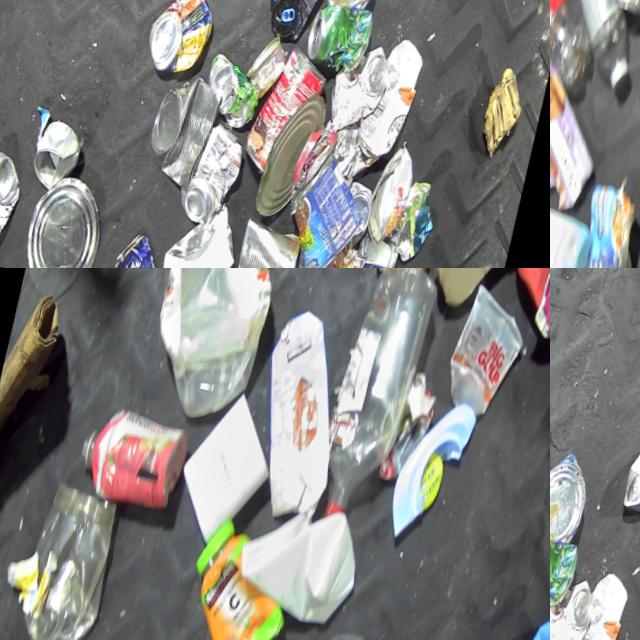can: (243, 43, 336, 183), (275, 146, 378, 268), (143, 70, 230, 196), (256, 90, 333, 225), (21, 168, 116, 268), (179, 120, 253, 230), (378, 368, 444, 487), (325, 39, 396, 140), (364, 142, 422, 250), (569, 180, 640, 268), (143, 0, 221, 80), (200, 52, 269, 133), (303, 0, 376, 76), (550, 448, 599, 547), (30, 119, 90, 196), (231, 215, 309, 268), (261, 0, 345, 45), (0, 145, 32, 259), (243, 34, 294, 103), (550, 573, 600, 640), (113, 226, 182, 268), (341, 180, 380, 250), (550, 533, 581, 610), (288, 241, 371, 268), (354, 230, 406, 268), (621, 431, 640, 517)
non_white_jug: (136, 268, 294, 428), (490, 268, 550, 356)
plastic_bottle: (550, 0, 640, 91), (550, 0, 607, 88)
